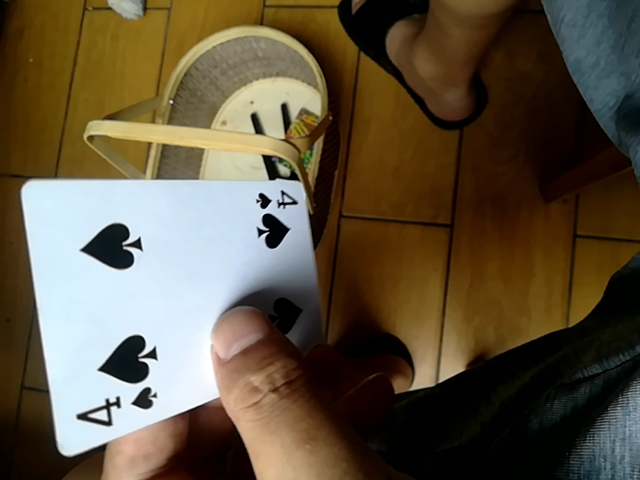ht 4: (13, 175, 314, 461)
